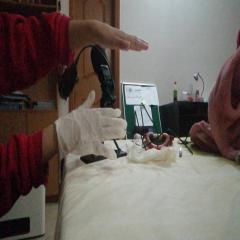gloved: (55, 90, 128, 161)
not-gloved: (74, 17, 148, 54)
